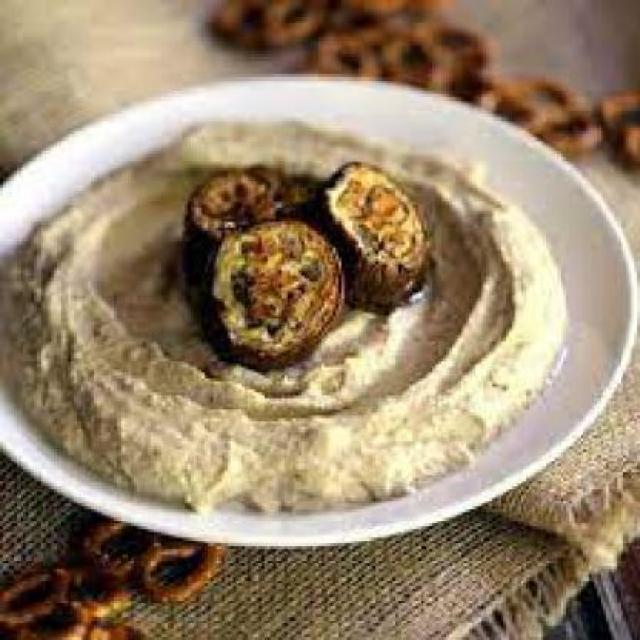eggplant: (176, 156, 433, 364)
hummus: (14, 106, 569, 514)
